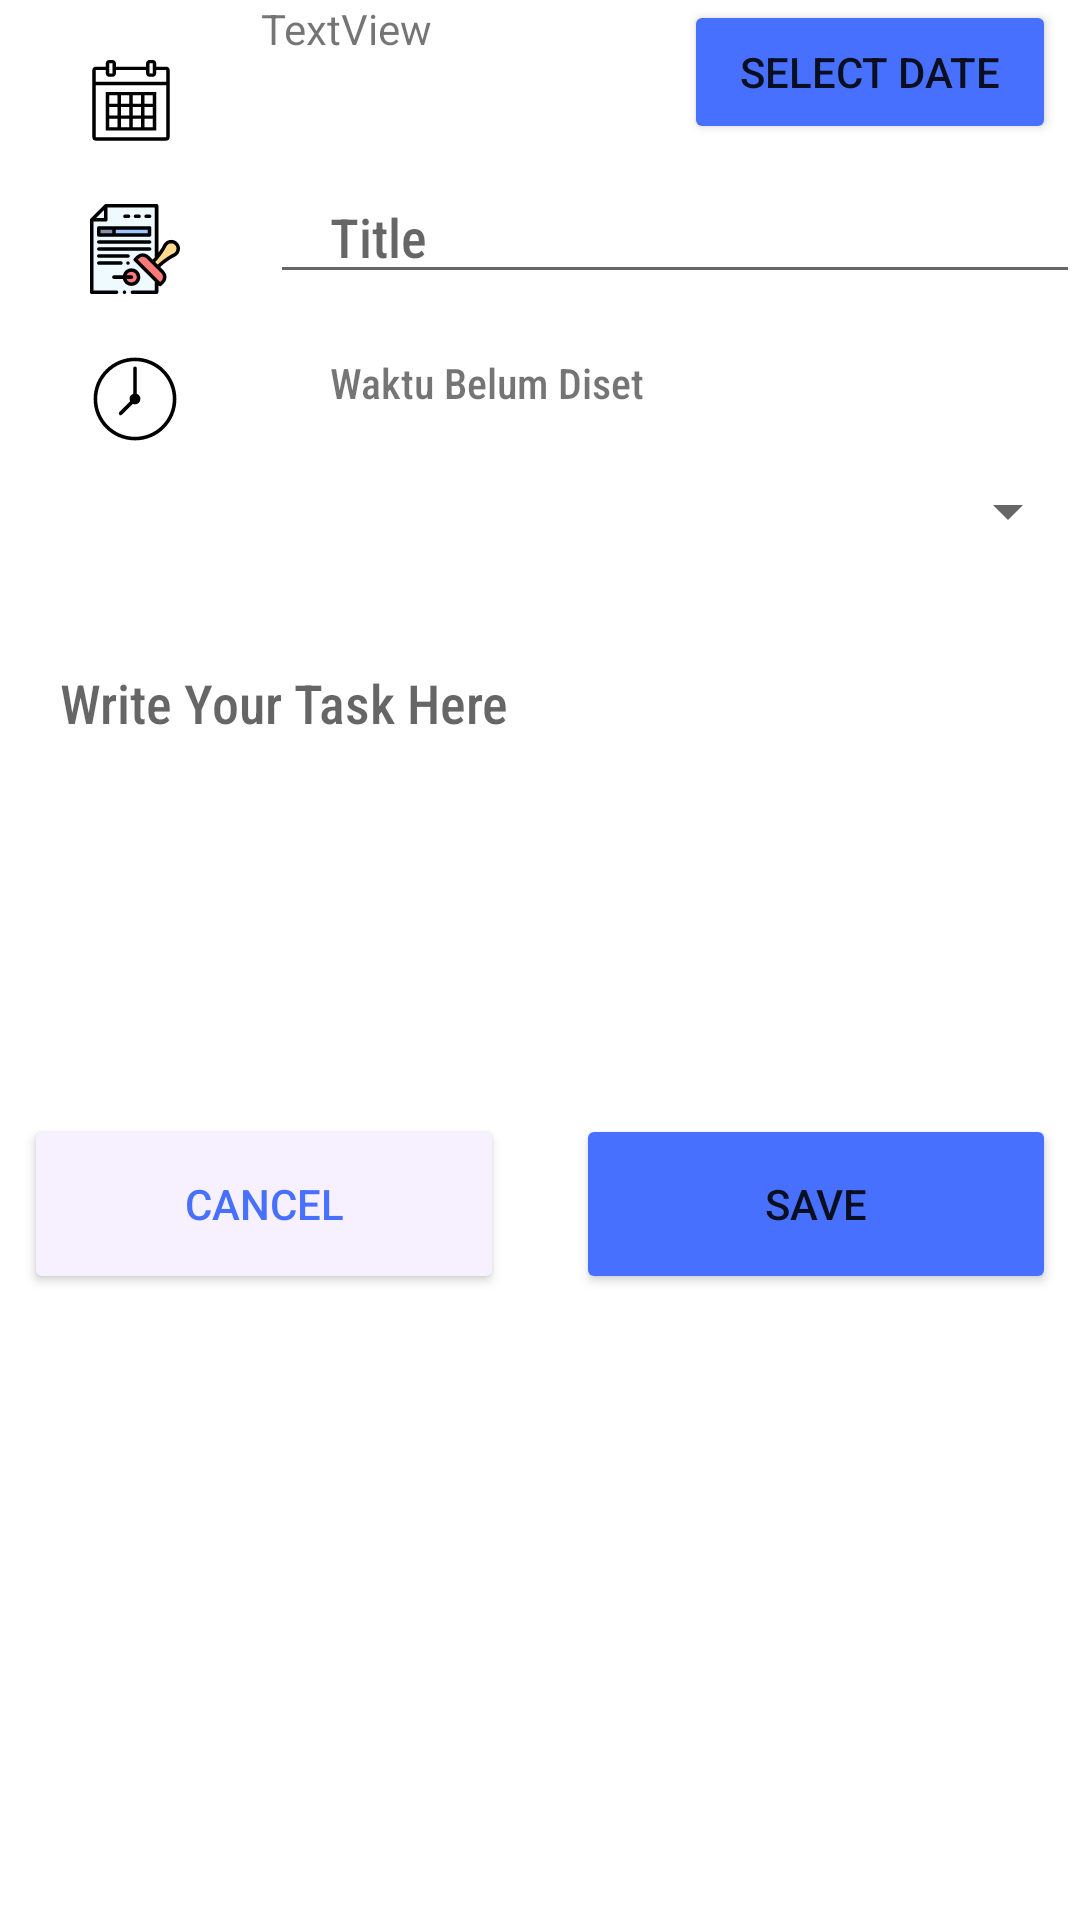

Where to tap for icons on this 1080px x 1920px app screen, as (x=x, y=y):
calendar: (x=131, y=100)
clock: (x=135, y=399)
official documents: (x=135, y=249)
